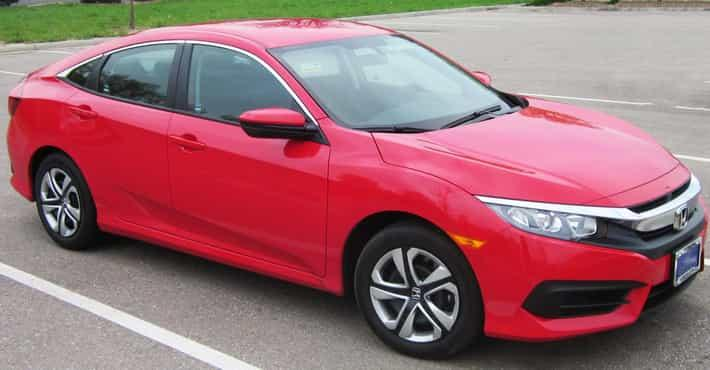Sedan: (3, 13, 710, 370)
